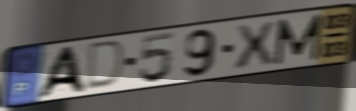5: (137, 30, 176, 86)
9: (182, 27, 219, 79)
A: (33, 44, 89, 100)
D: (82, 38, 129, 92)
M: (273, 12, 325, 67)
X: (233, 19, 278, 71)
